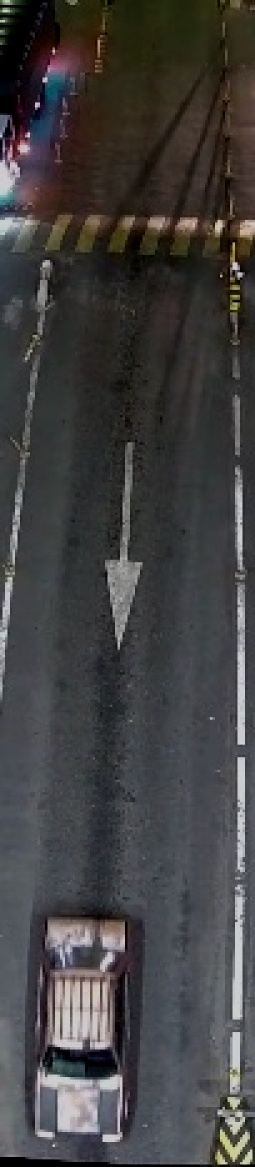car: (20, 904, 143, 1151)
truck: (1, 1, 67, 201)
